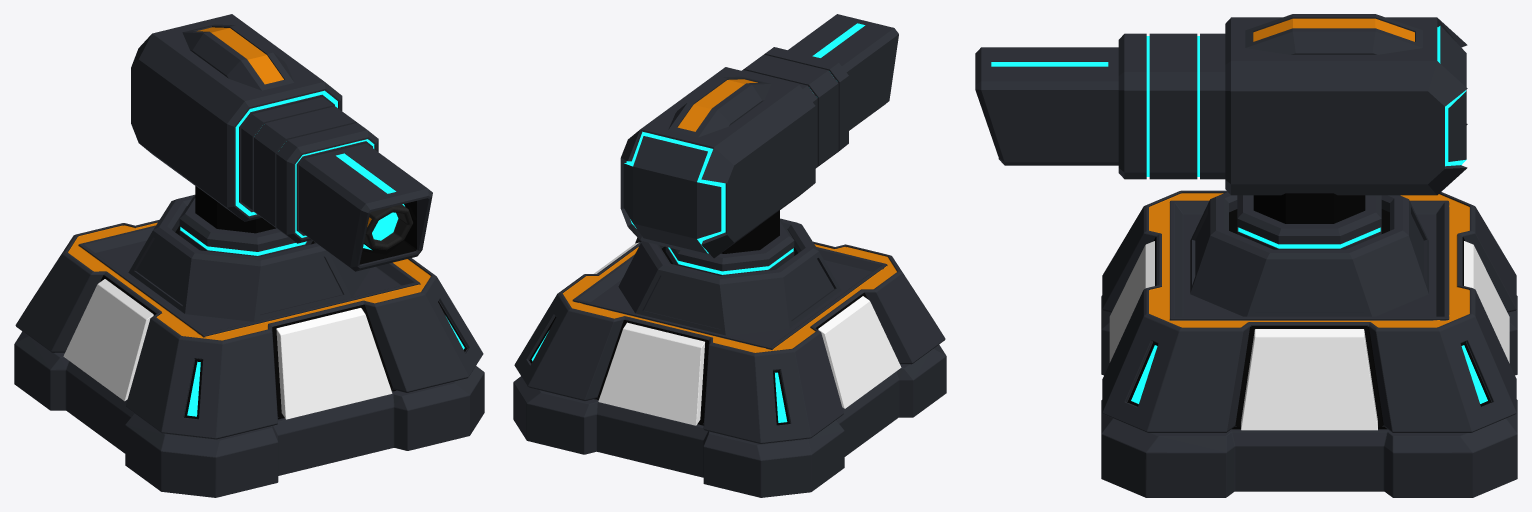
File: SM_Turret_Laser_Gun.fbx
3 views of the same model, side by side, from view 1: azimuth 30°, elevation 25°; view 2: azimuth 150°, elevation 25°; view 3: azimuth 270°, elevation 25° (orthographic). The views are drawn at different scales.
Visible parts, largest first — view 1: SM_Laser_Gun_Base, SM_Laser_Gun; view 2: SM_Laser_Gun_Base, SM_Laser_Gun; view 3: SM_Laser_Gun_Base, SM_Laser_Gun.
Boxes of the visible parts, x1=… form: SM_Laser_Gun_Base: x1=14, y1=186, x2=484, y2=497; SM_Laser_Gun: x1=131, y1=14, x2=432, y2=271; SM_Laser_Gun_Base: x1=513, y1=210, x2=946, y2=497; SM_Laser_Gun: x1=620, y1=14, x2=898, y2=258; SM_Laser_Gun_Base: x1=1101, y1=190, x2=1517, y2=497; SM_Laser_Gun: x1=975, y1=14, x2=1467, y2=195.
Size of the model in its own units: 100 by 103 by 130.
